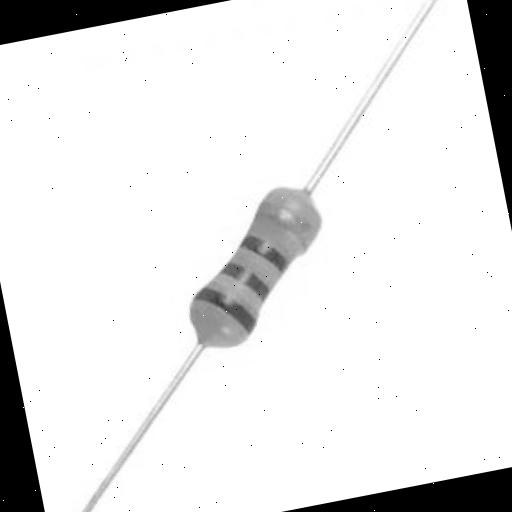RESISTOR: (27, 108, 439, 502)
